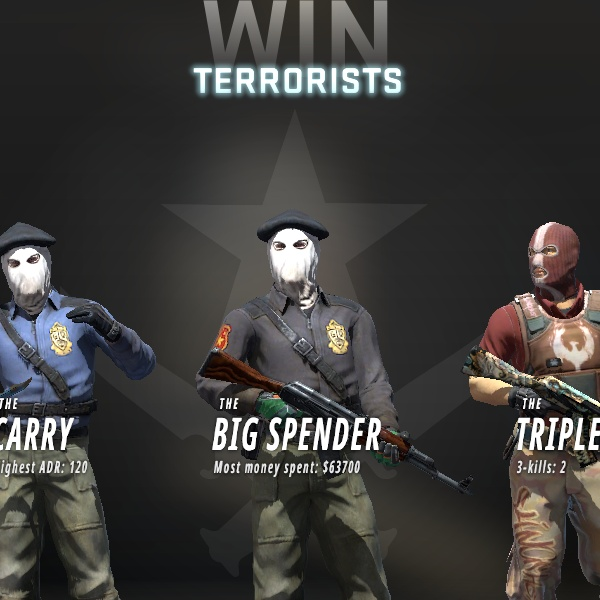t_body: (441, 202, 597, 600)
t_head: (502, 207, 600, 319)
